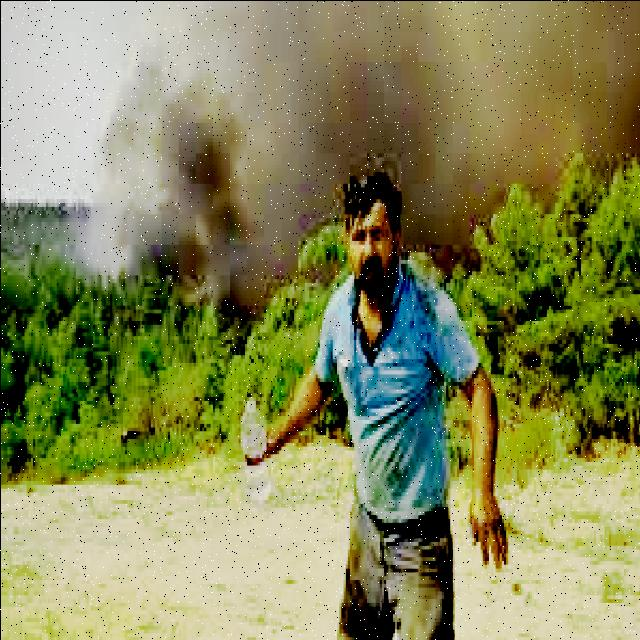asap: (83, 1, 640, 175), (83, 172, 300, 285)
